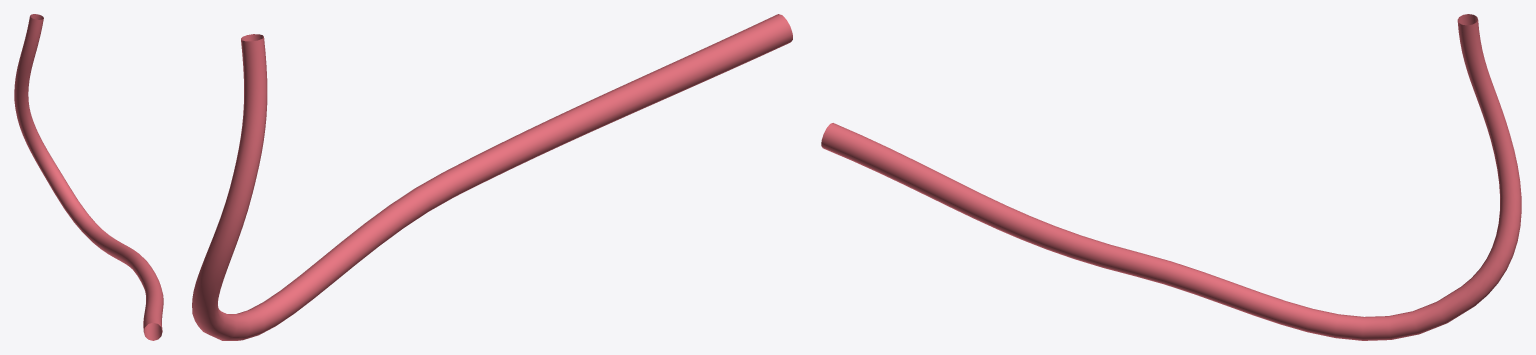
3 views of the same model, side by side, from view 1: azimuth 30°, elevation 25°; view 2: azimuth 150°, elevation 25°; view 3: azimuth 270°, elevation 25° (orthographic). The views are drawn at different scales.
Visible parts, largest first — view 1: ZA_8d61ab80b9ee9cbc; view 2: ZA_8d61ab80b9ee9cbc; view 3: ZA_8d61ab80b9ee9cbc.
Part boxes in pixels (x1,y1,x2,y2): ZA_8d61ab80b9ee9cbc: [14, 14, 163, 340]; ZA_8d61ab80b9ee9cbc: [192, 14, 792, 340]; ZA_8d61ab80b9ee9cbc: [821, 14, 1521, 340].
Size of the model in its own units: 0.014 by 0.0194 by 0.0406.
